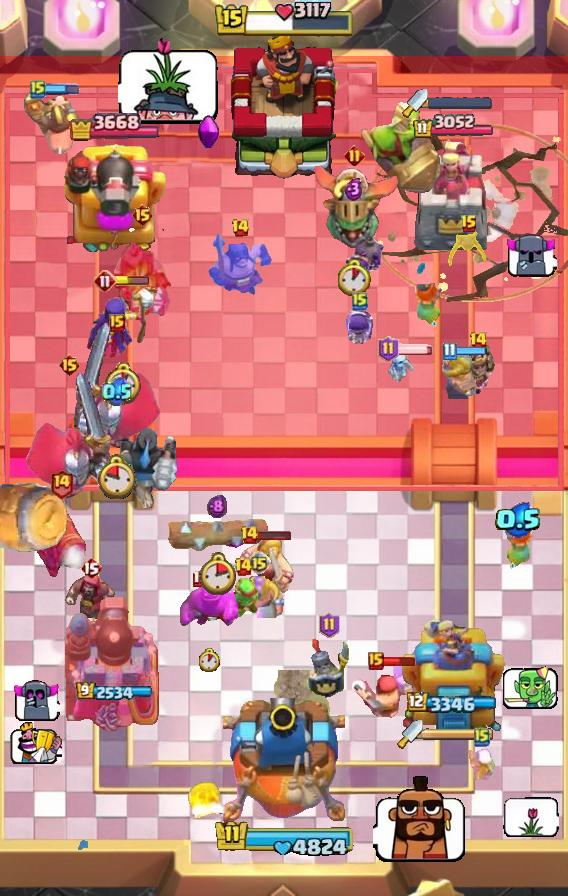bar: (396, 343, 434, 355), (256, 529, 292, 541), (44, 83, 80, 95), (382, 656, 416, 667), (114, 276, 150, 286), (454, 346, 488, 356)
bar-level: (49, 468, 74, 499), (247, 551, 271, 575), (93, 269, 117, 293), (58, 353, 81, 377), (131, 203, 154, 227), (319, 612, 340, 638), (378, 336, 399, 362), (80, 556, 102, 580), (344, 145, 365, 166), (234, 557, 253, 577), (240, 525, 259, 545), (469, 331, 488, 351), (231, 218, 250, 238), (460, 214, 478, 234), (474, 727, 490, 747), (352, 291, 368, 311), (30, 79, 46, 99), (368, 652, 384, 670), (109, 314, 125, 332), (192, 569, 207, 588), (442, 342, 457, 361)
bat-evolution: (447, 230, 491, 270)
bomber-evolution: (342, 231, 388, 295)
cannoneer-tower: (65, 593, 163, 731), (60, 138, 168, 256)
clock: (103, 362, 144, 405), (98, 454, 137, 499), (199, 552, 236, 595), (338, 259, 371, 296), (199, 648, 220, 672)
dagger-duchess-tower: (401, 615, 506, 731), (412, 140, 494, 256)
dagger-duchess-tower-bar: (423, 727, 495, 741), (428, 97, 492, 109)
dirt: (269, 670, 332, 731)
elite-barbarian: (231, 535, 297, 597), (235, 575, 284, 618), (440, 353, 476, 400)
elixir: (495, 502, 542, 538), (102, 377, 132, 407), (207, 494, 227, 519), (345, 177, 363, 201)
elixir-golem-mid: (180, 581, 238, 627)
emote: (118, 34, 221, 126), (373, 774, 468, 864), (502, 662, 560, 712), (505, 233, 557, 279), (503, 797, 559, 837), (10, 722, 62, 764), (12, 679, 60, 722)
evolution-symbol: (196, 115, 222, 149)
executioner: (206, 228, 274, 298)
firecracker-evolution: (32, 500, 90, 580)
guard: (307, 639, 351, 699)
king-tower: (222, 31, 346, 181), (223, 698, 345, 826)
king-tower-bar: (210, 818, 358, 860), (213, 0, 355, 40)
little-prince: (459, 345, 497, 397)
lumberjack: (352, 661, 420, 723)
skeleton: (385, 352, 415, 384), (468, 748, 496, 780)
skeleton-evolution: (345, 310, 376, 350)
spear-goblin: (224, 576, 262, 620)
the-log: (166, 514, 269, 552)
tower-bar: (69, 110, 159, 145), (412, 114, 495, 140), (407, 692, 499, 715), (76, 682, 153, 702)
valkyrie: (499, 520, 537, 572), (410, 278, 448, 330)
witch: (85, 285, 161, 359)
wizard: (64, 569, 118, 627)
